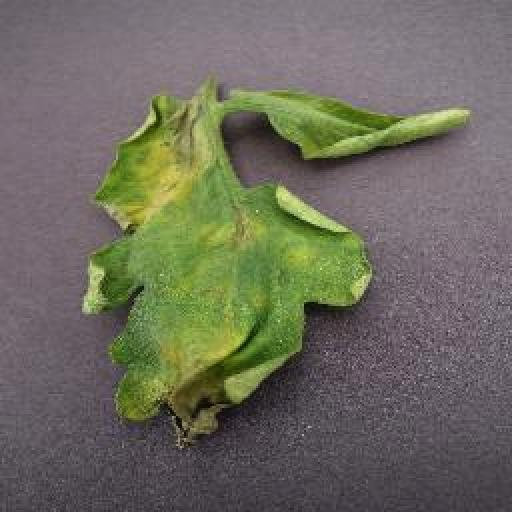disease_tomato: (70, 82, 468, 454)
